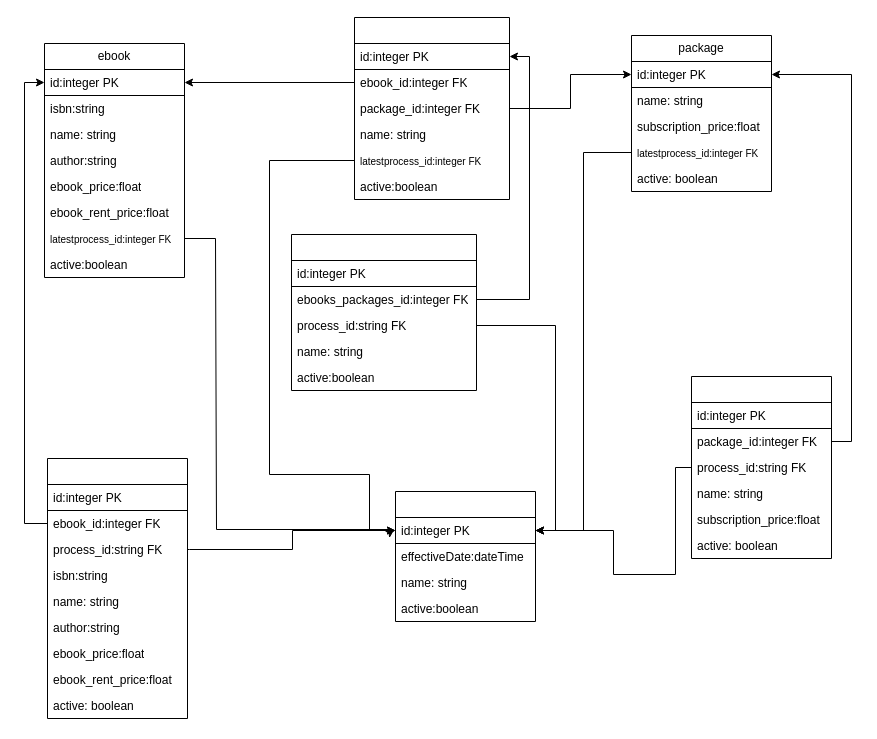
Some shapes in this 877 by 739 pixel diagram are drawn without their labels. The shapes that lost their labels are listed below. From the top down, each one's box as (x1, y1, x2, y2) in pixels, then its label:
(354, 16, 510, 200): ebooks_packages
(290, 234, 476, 390): ebooks_packages_diff
(690, 376, 832, 558): package_diff
(394, 490, 536, 622): process
(46, 458, 188, 718): ebook_diff
